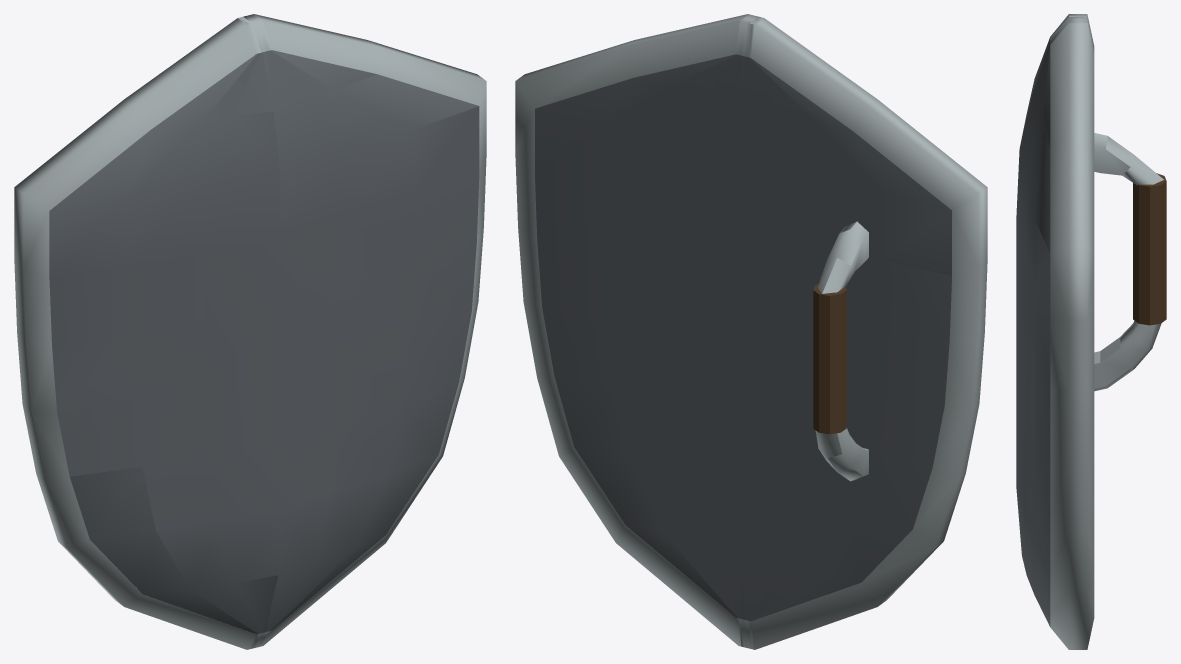
The picture shows the model from 3 angles, left to right: view 1: azimuth 30°, elevation 25°; view 2: azimuth 150°, elevation 25°; view 3: azimuth 270°, elevation 25°; orthographic projection.
Visible parts, largest first — view 1: SM_Shield_Medium_01_Iron_LOD0; view 2: SM_Shield_Medium_01_Iron_LOD0; view 3: SM_Shield_Medium_01_Iron_LOD0.
Boxes of the visible parts, x1,y1,x2,y2 form: SM_Shield_Medium_01_Iron_LOD0: (14,14,486,649); SM_Shield_Medium_01_Iron_LOD0: (515,14,987,649); SM_Shield_Medium_01_Iron_LOD0: (1016,14,1166,649).
Size of the model in its own units: 0.7407 by 0.9557 by 0.2076.
